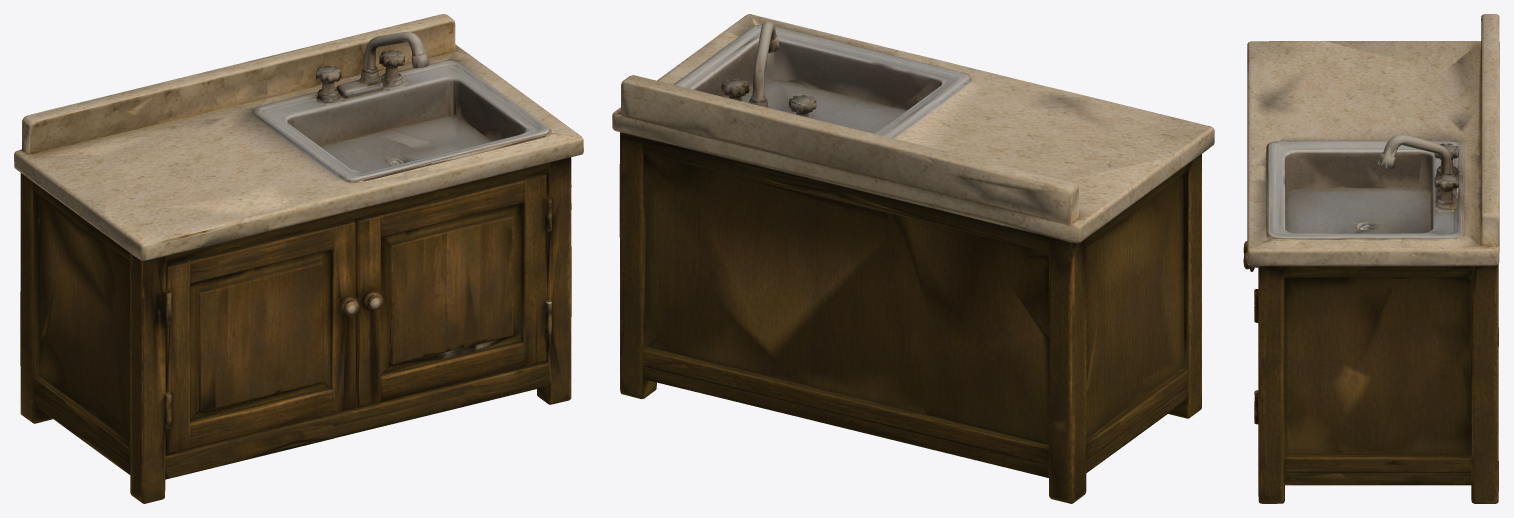
Rendered from FregaderoCerrado.glb.
The picture shows the model from 3 angles, left to right: view 1: azimuth 30°, elevation 25°; view 2: azimuth 150°, elevation 25°; view 3: azimuth 270°, elevation 25°; orthographic projection. The views are drawn at different scales.
Visible parts, largest first — view 1: node_0; view 2: node_0; view 3: node_0.
Boxes of the visible parts, x1,y1,x2,y2 form: node_0: [14, 14, 583, 503]; node_0: [612, 14, 1214, 503]; node_0: [1243, 14, 1499, 503].
Size of the model in its own units: 0.919 by 0.6676 by 0.4731.
1 material, 1 textured.
